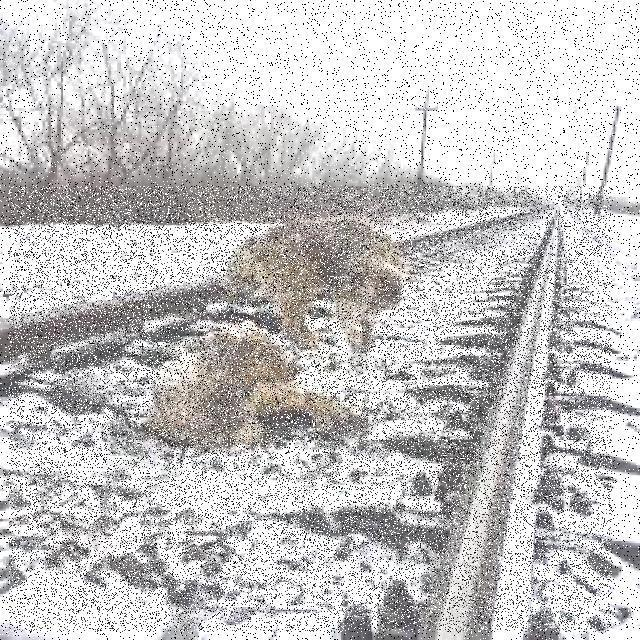danger: (120, 308, 402, 494), (215, 215, 437, 347)
rail: (10, 186, 612, 632)
